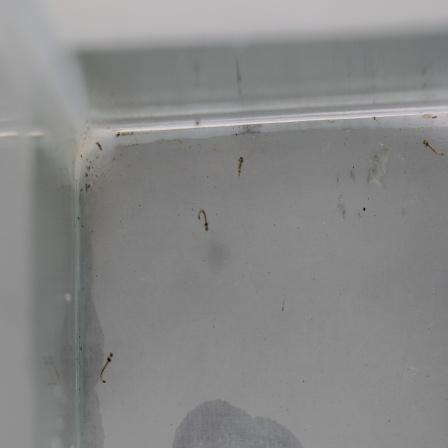Jentik-Nyamuk: (416, 136, 448, 166), (95, 347, 116, 390), (193, 204, 214, 235), (233, 152, 249, 180)
